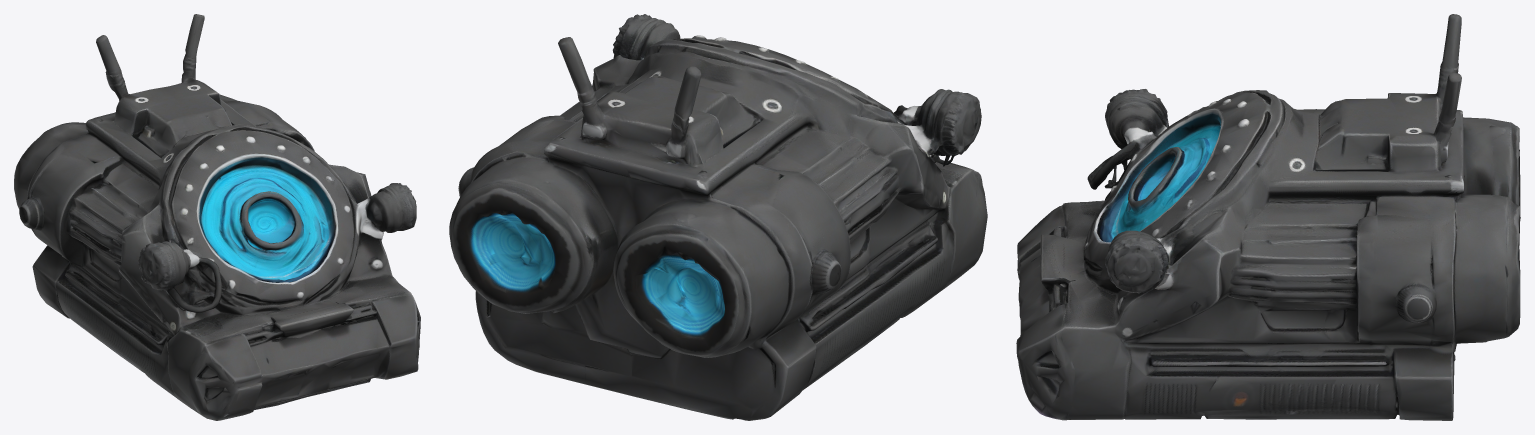
Rendered from emitter.glb.
The picture shows the model from 3 angles, left to right: view 1: azimuth 30°, elevation 25°; view 2: azimuth 150°, elevation 25°; view 3: azimuth 270°, elevation 25°; orthographic projection. The views are drawn at different scales.
Bounding box in the file's own units: 1.62 × 1.43 × 2.
1 material, 1 textured.
